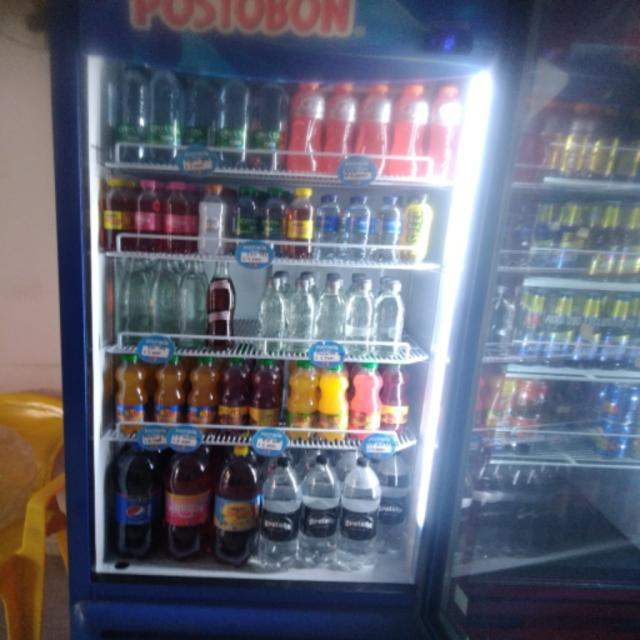Gatorade: (288, 80, 327, 175), (395, 87, 430, 178), (360, 84, 393, 178), (327, 82, 357, 175), (430, 88, 461, 177)
Speed: (398, 191, 439, 263)
tamarindo: (205, 258, 239, 348)
